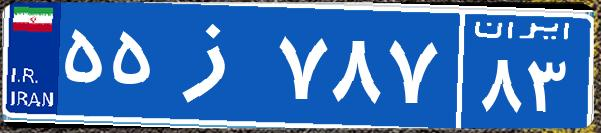3: (525, 38, 570, 115)
5: (57, 26, 110, 107), (110, 28, 158, 105)
7: (385, 28, 445, 110), (273, 28, 330, 110)
8: (330, 28, 385, 110), (475, 38, 525, 113)
ز: (158, 15, 273, 115)
